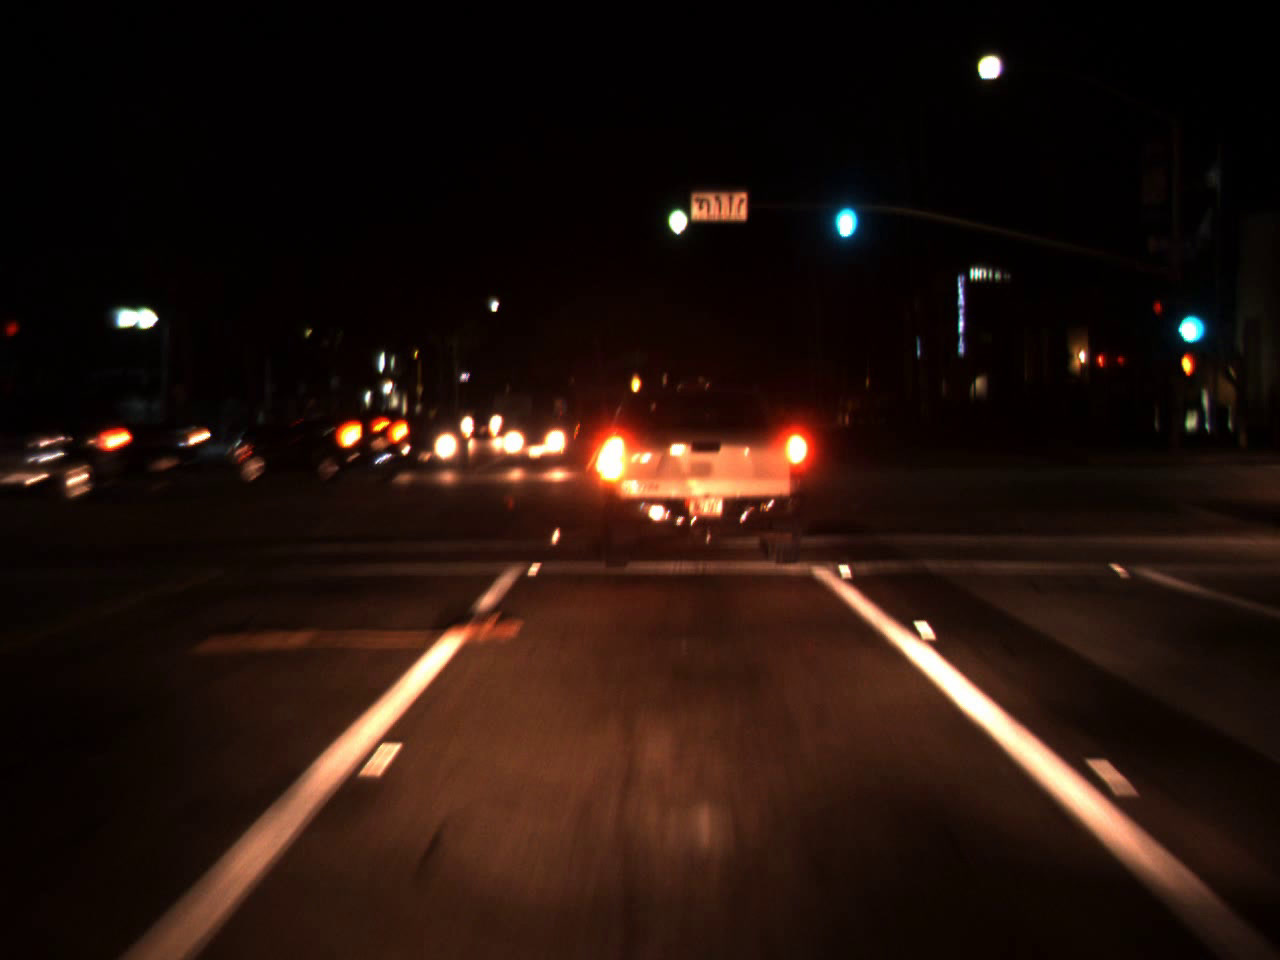go: (1171, 279, 1208, 354), (826, 171, 862, 249), (661, 173, 689, 242)
